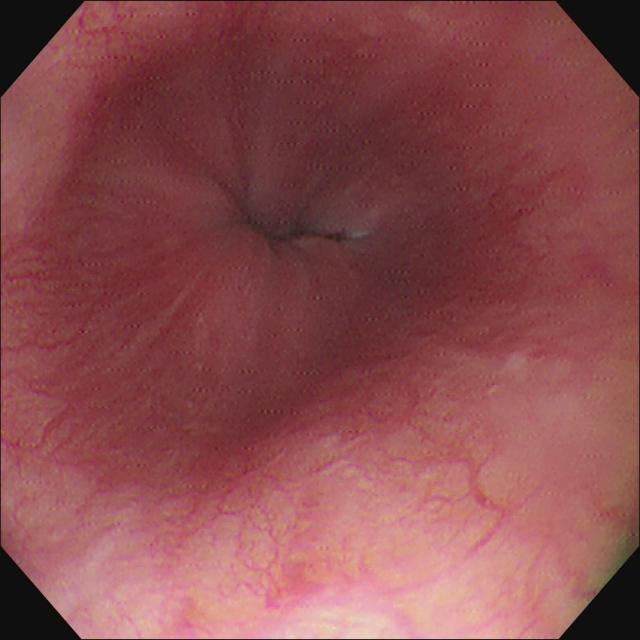I: (196, 133, 374, 309)
